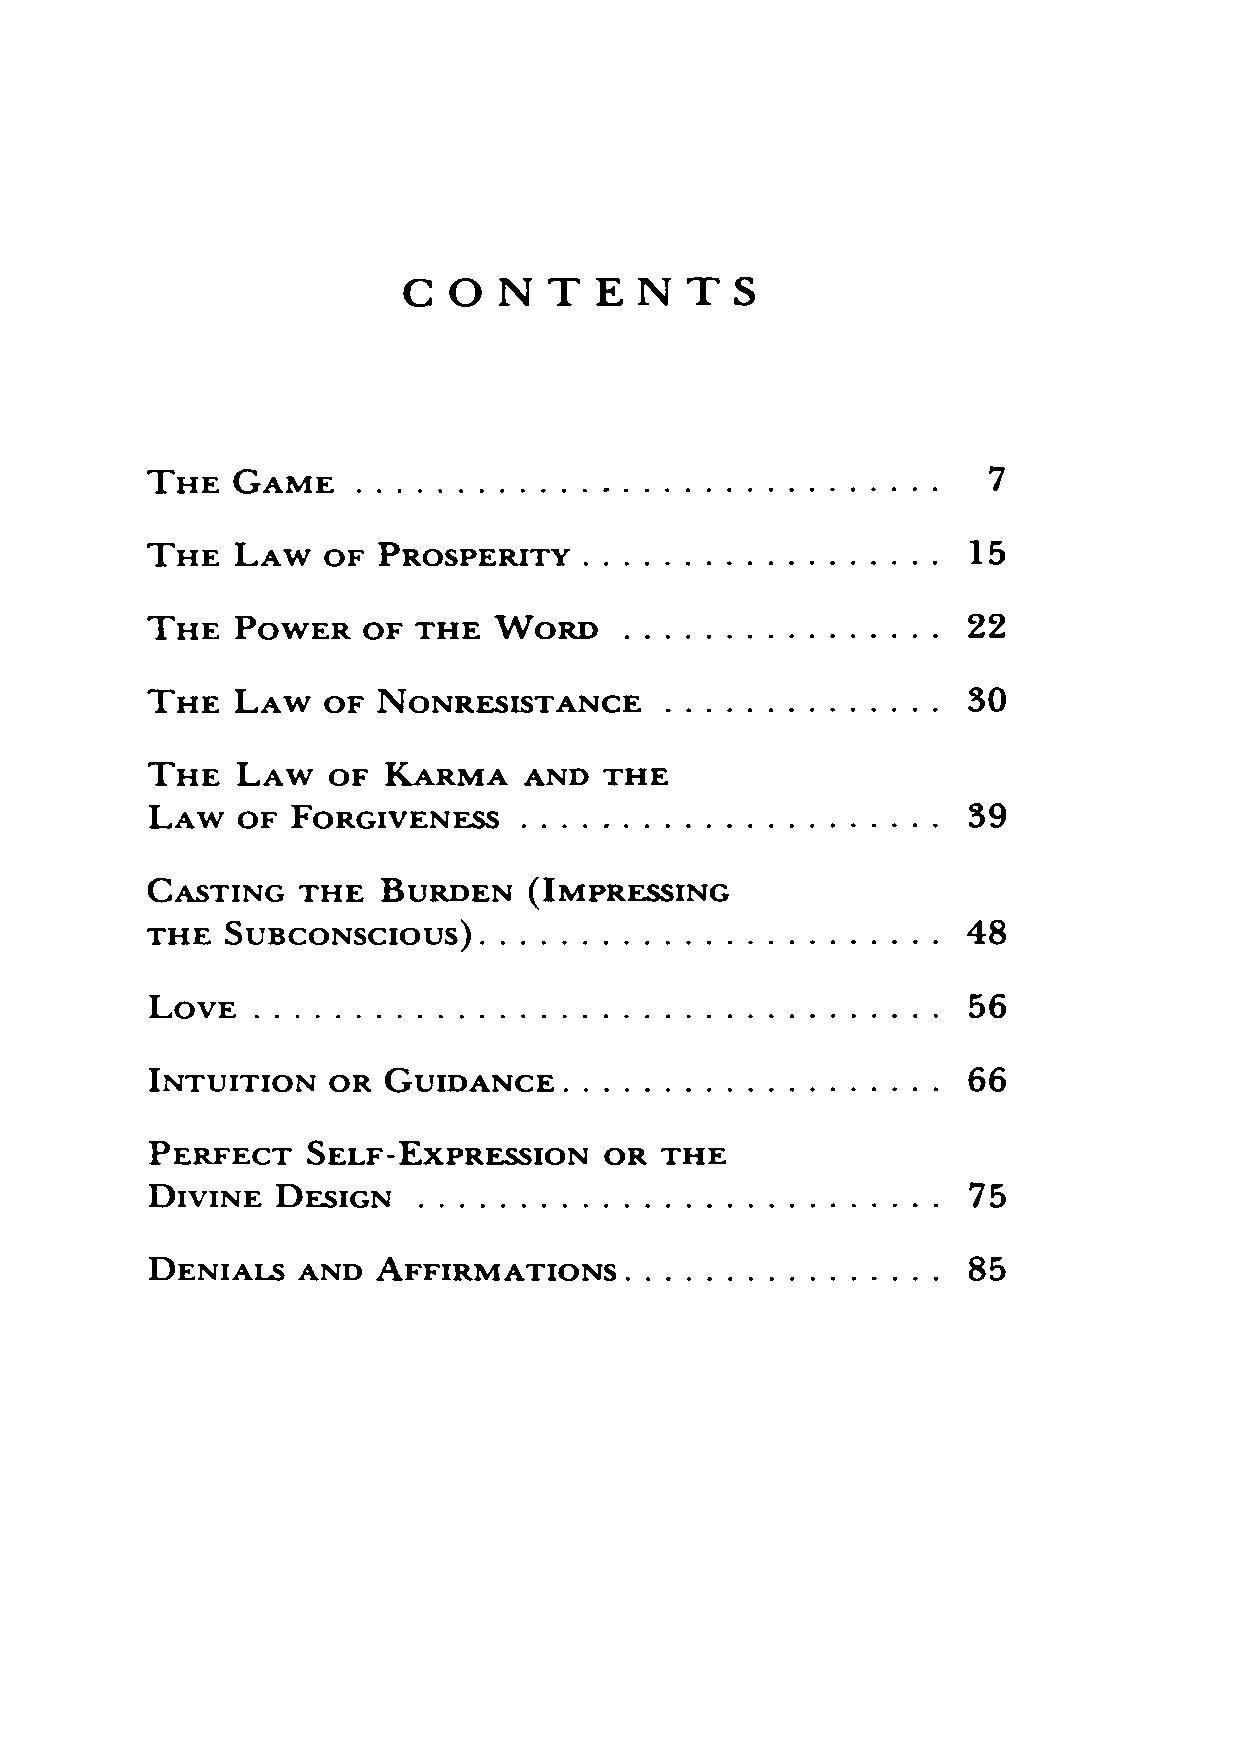TOC_chapter: (148, 1133, 727, 1209), (148, 874, 731, 947), (140, 754, 676, 833), (145, 1252, 620, 1290), (145, 683, 648, 718), (142, 611, 611, 646), (136, 1059, 561, 1096), (142, 537, 569, 572), (142, 460, 340, 499), (144, 989, 235, 1023)
TOC_pagenumber: (964, 608, 1016, 643), (964, 1062, 1011, 1096), (960, 531, 1006, 566), (966, 986, 1011, 1023), (968, 917, 1011, 951), (964, 1249, 1005, 1284), (961, 1177, 1005, 1209), (965, 684, 1009, 715), (964, 796, 1006, 827), (980, 458, 1006, 493)
chapter: (397, 272, 760, 310)
